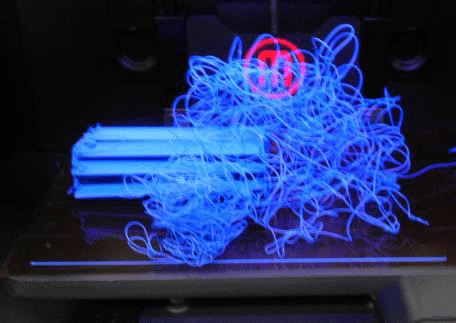Spaghetti: (113, 156, 435, 261), (176, 47, 405, 130), (175, 126, 420, 154)
